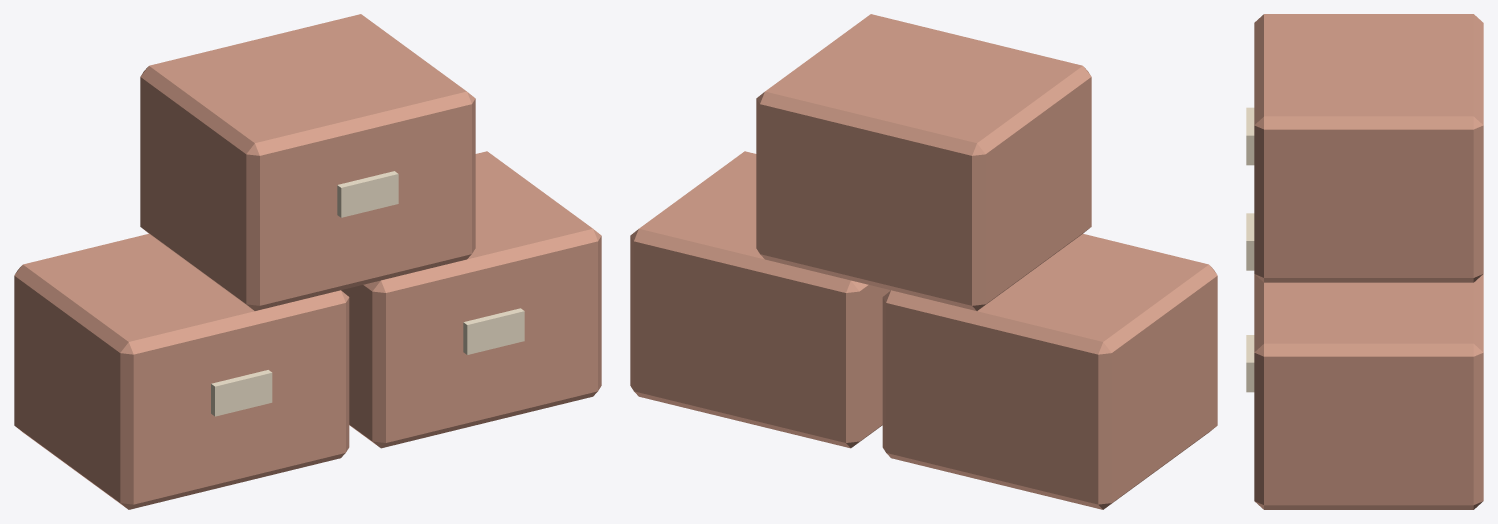
3 renders of one model, left to right at view 1: azimuth 30°, elevation 25°; view 2: azimuth 150°, elevation 25°; view 3: azimuth 270°, elevation 25°, orthographic.
Parts seen in each view (by area): view 1: Stacked case.002, Stacked case, Stacked case.001, Case label.002, Case label.001, Case label; view 2: Stacked case.002, Stacked case, Stacked case.001; view 3: Stacked case.002, Stacked case.001, Case label.002, Case label, Case label.001.
Part boxes in pixels (x1,y1,x2,y2): Stacked case.002: (140,14,475,310); Stacked case: (14,234,349,509); Stacked case.001: (341,151,601,448); Case label.002: (337,171,398,217); Case label.001: (463,308,524,354); Case label: (211,370,272,416); Stacked case.002: (756,14,1091,310); Stacked case: (882,234,1217,509); Stacked case.001: (630,151,890,448); Stacked case.002: (1254,14,1483,282); Stacked case.001: (1254,274,1483,509); Case label.002: (1246,107,1254,165); Case label: (1246,213,1254,270); Case label.001: (1246,335,1254,392).
Size of the model in its own units: 84 by 56 by 36.2.
